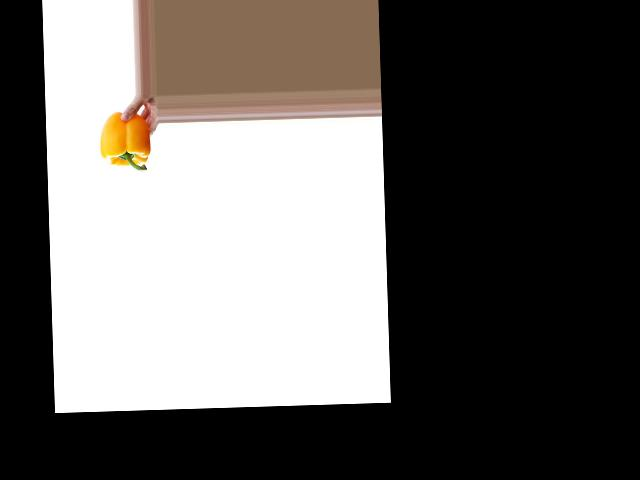bell_pepper: (98, 110, 151, 174)
